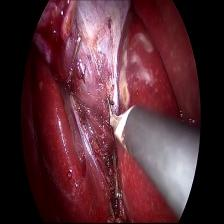Hook: (104, 94, 138, 149)
